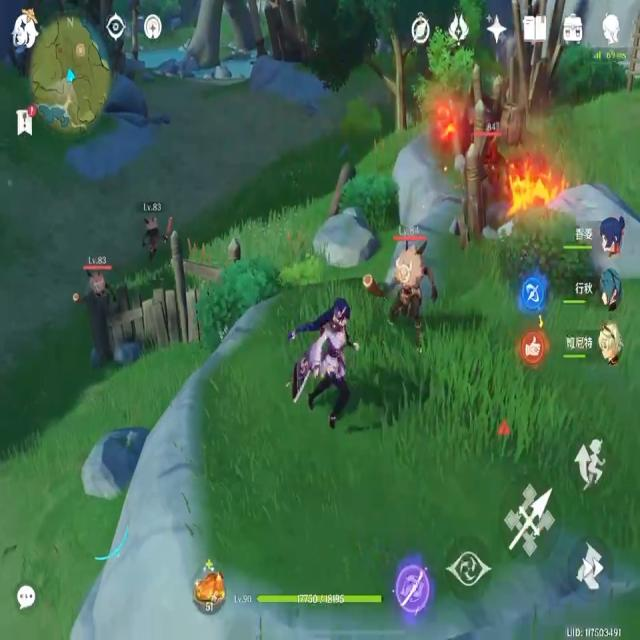genshin-hilichurls: (366, 224, 428, 339), (76, 245, 117, 308), (136, 198, 164, 267)
